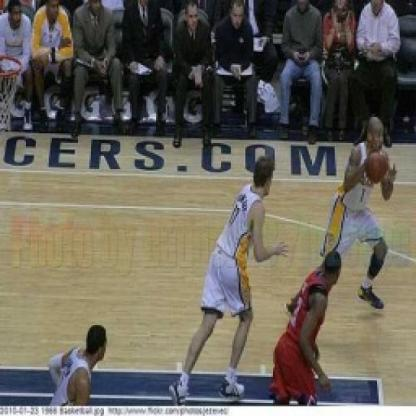basketball: (364, 153, 388, 182)
